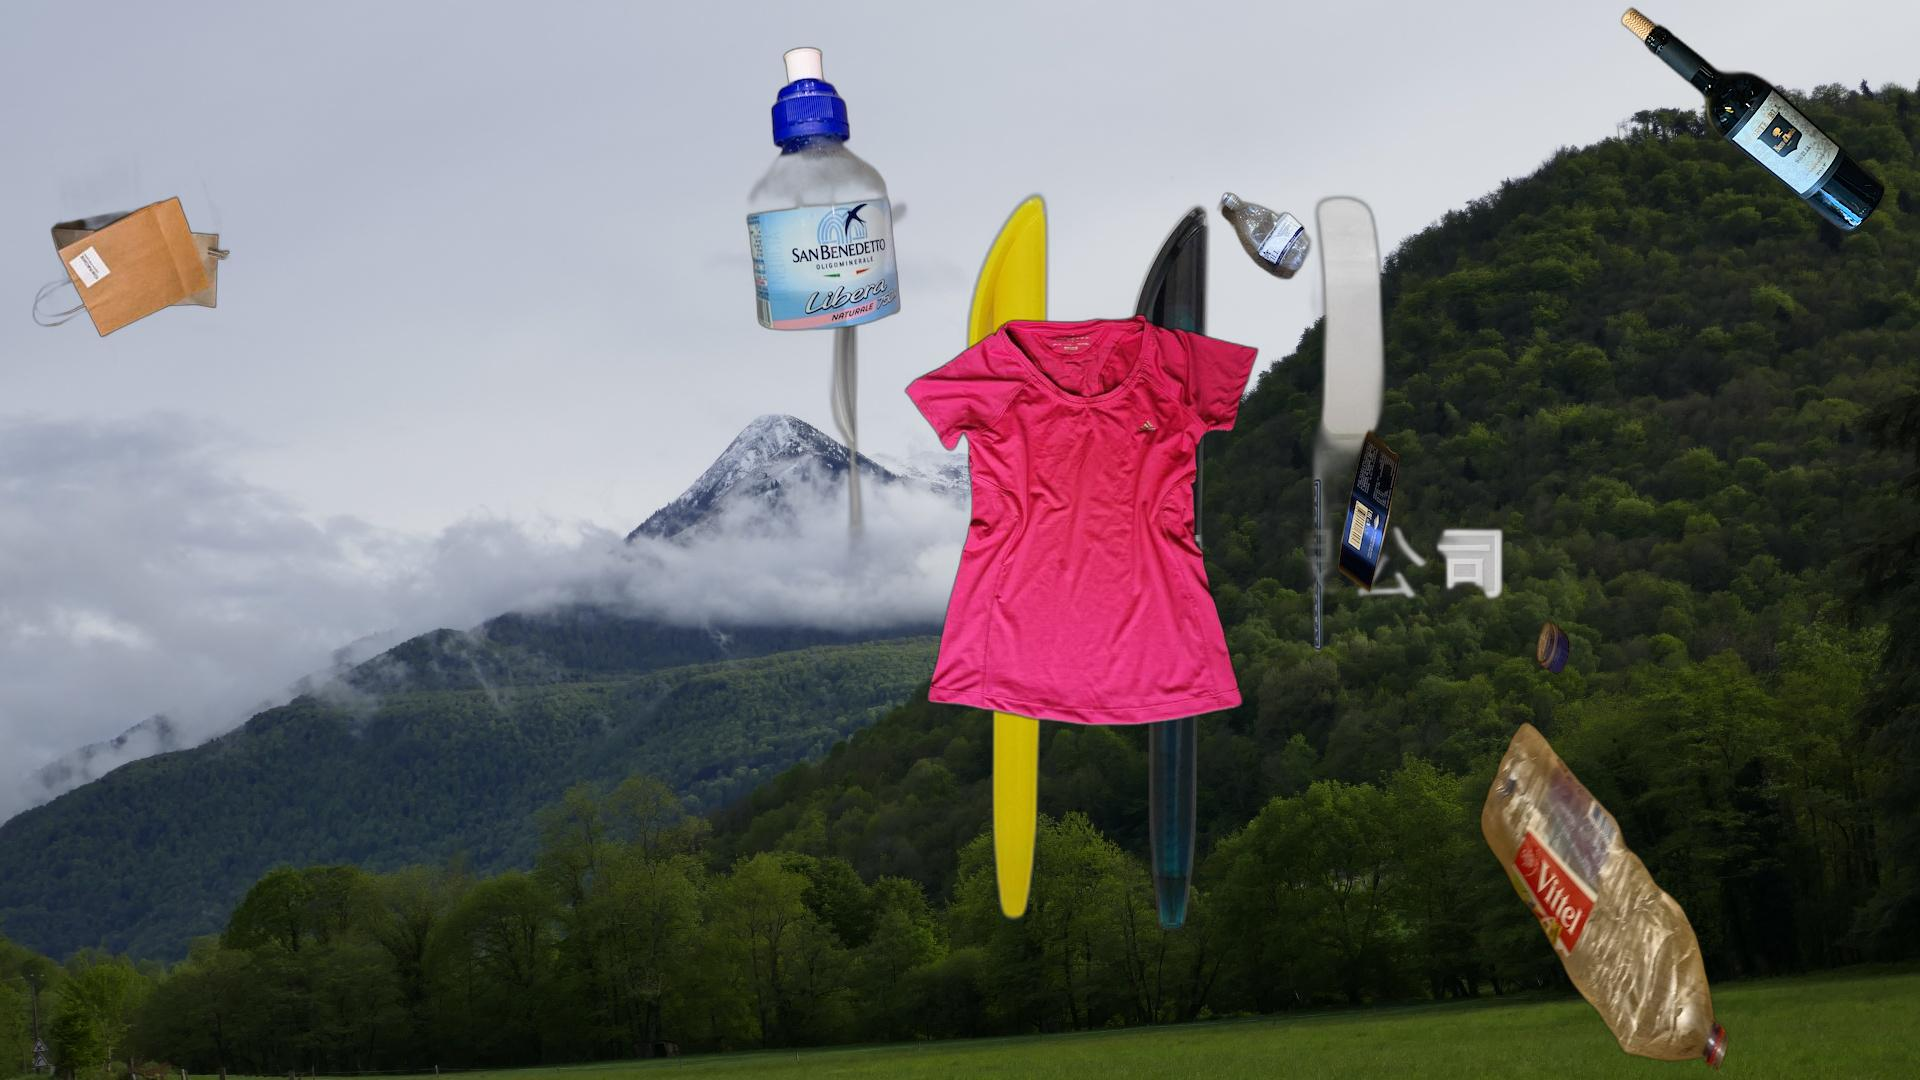clothes: (902, 310, 1261, 731)
glass: (1617, 3, 1888, 236)
paper-bag: (32, 131, 241, 367)
penholder: (669, 185, 1513, 939)
plastic-bottles: (1251, 425, 1573, 870), (1477, 717, 1731, 1075), (744, 44, 905, 334), (1215, 189, 1315, 284)
